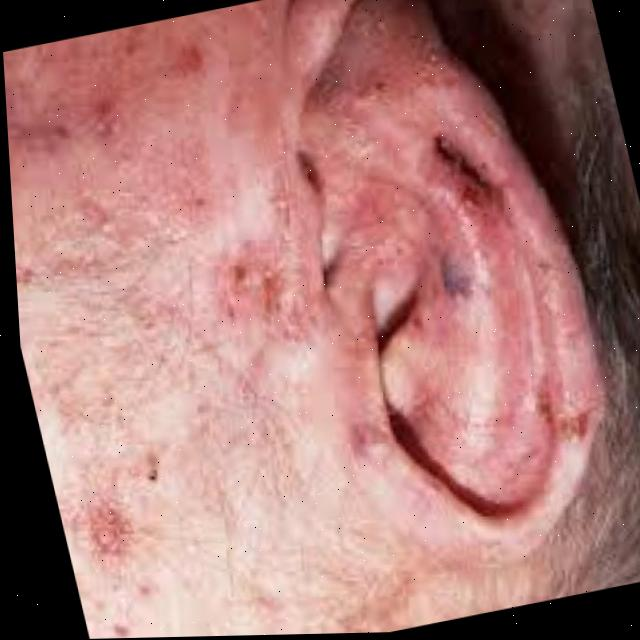Eczema: (7, 84, 561, 533)
